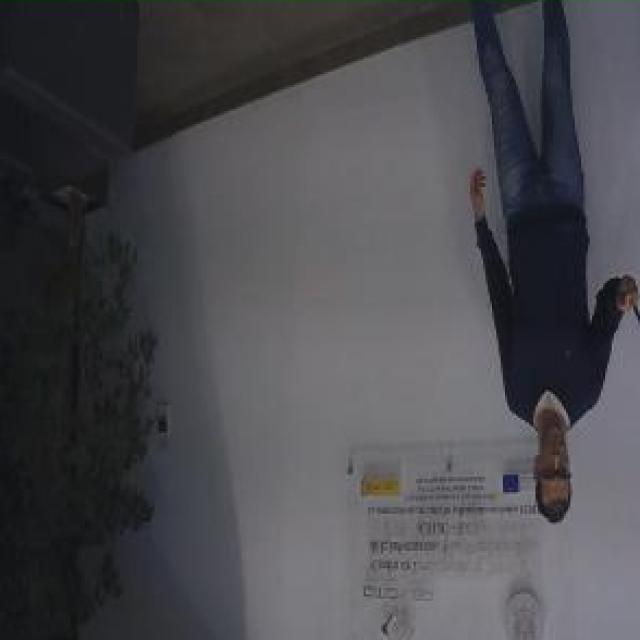knife: (620, 272, 640, 335)
